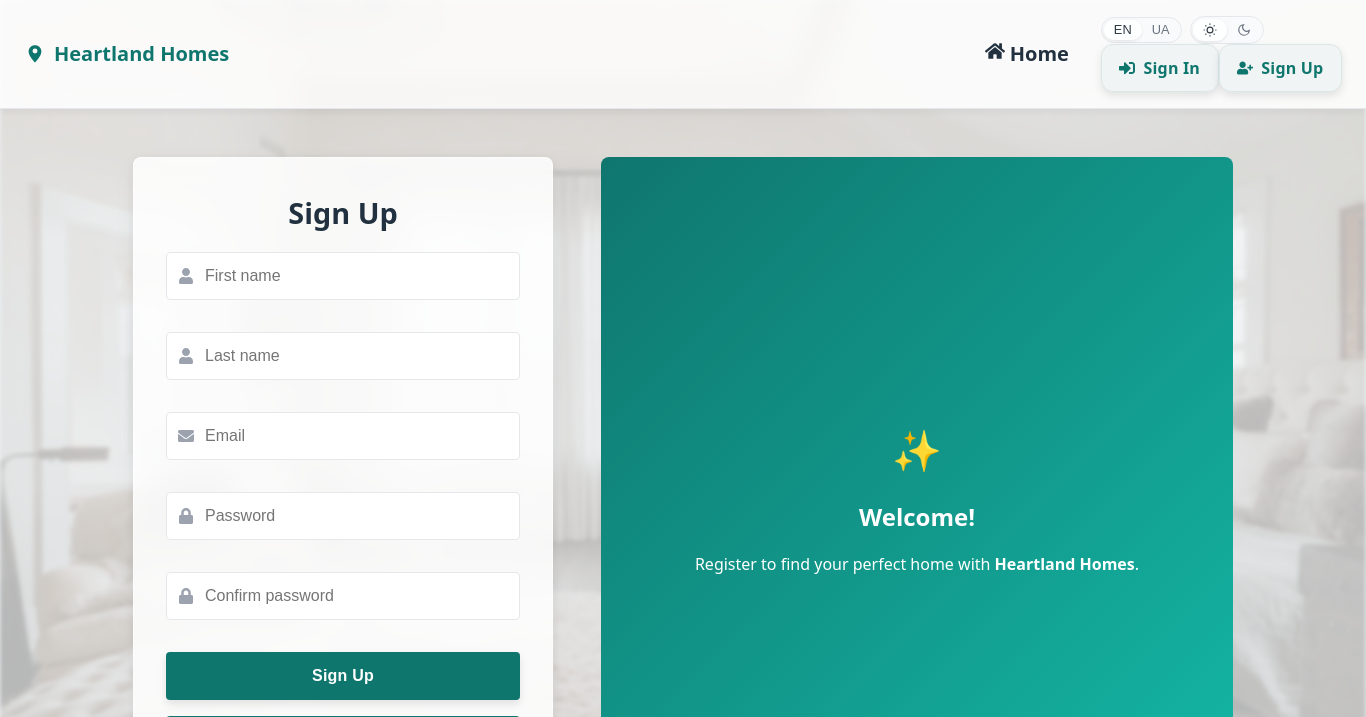
it: Форма реєстрації › Помилка якщо email уже зайнятий
In the field named "firstName": (343, 276) 166,252 -> 520,300, type "Іван"
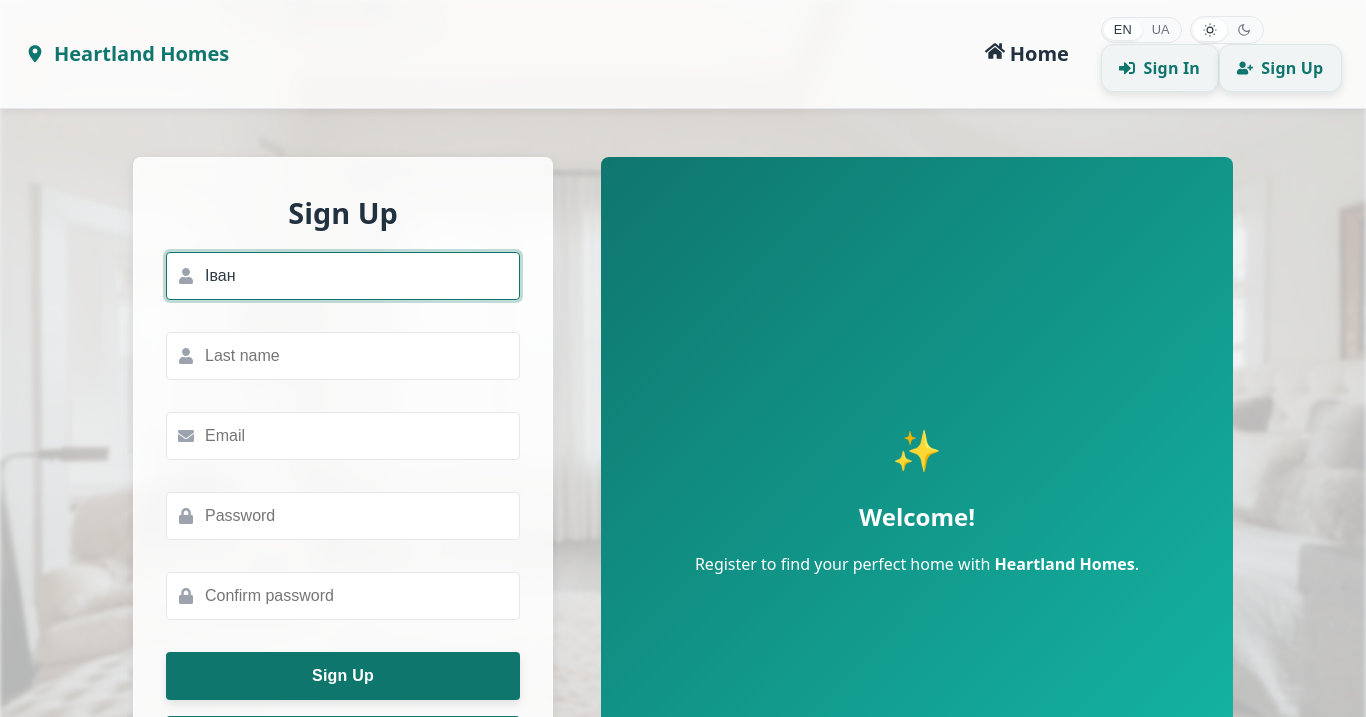
In the field named "lastName": (343, 356) 166,332 -> 520,380, type "Тестовий"
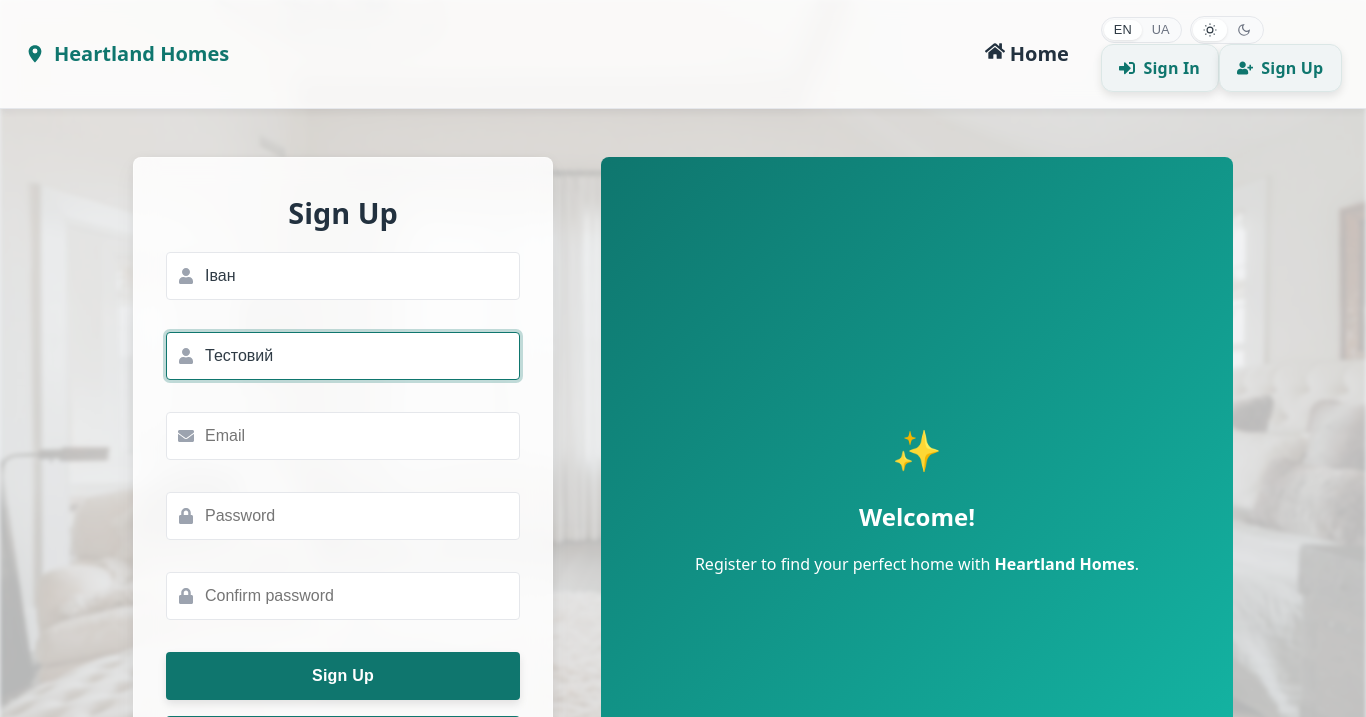
In the field named "email": (343, 436) 166,412 -> 520,460, type "admin@booking.com"
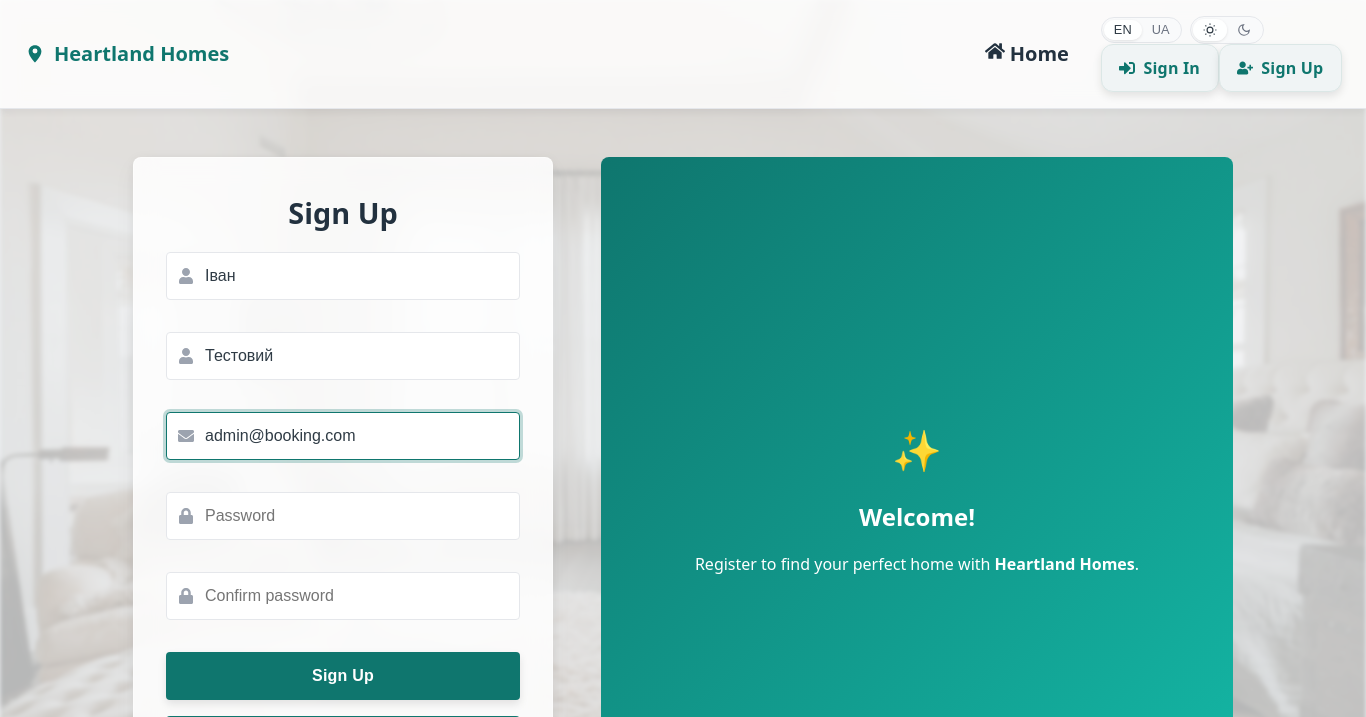
In the password field named "password": (343, 516) 166,492 -> 520,540, type "password123"
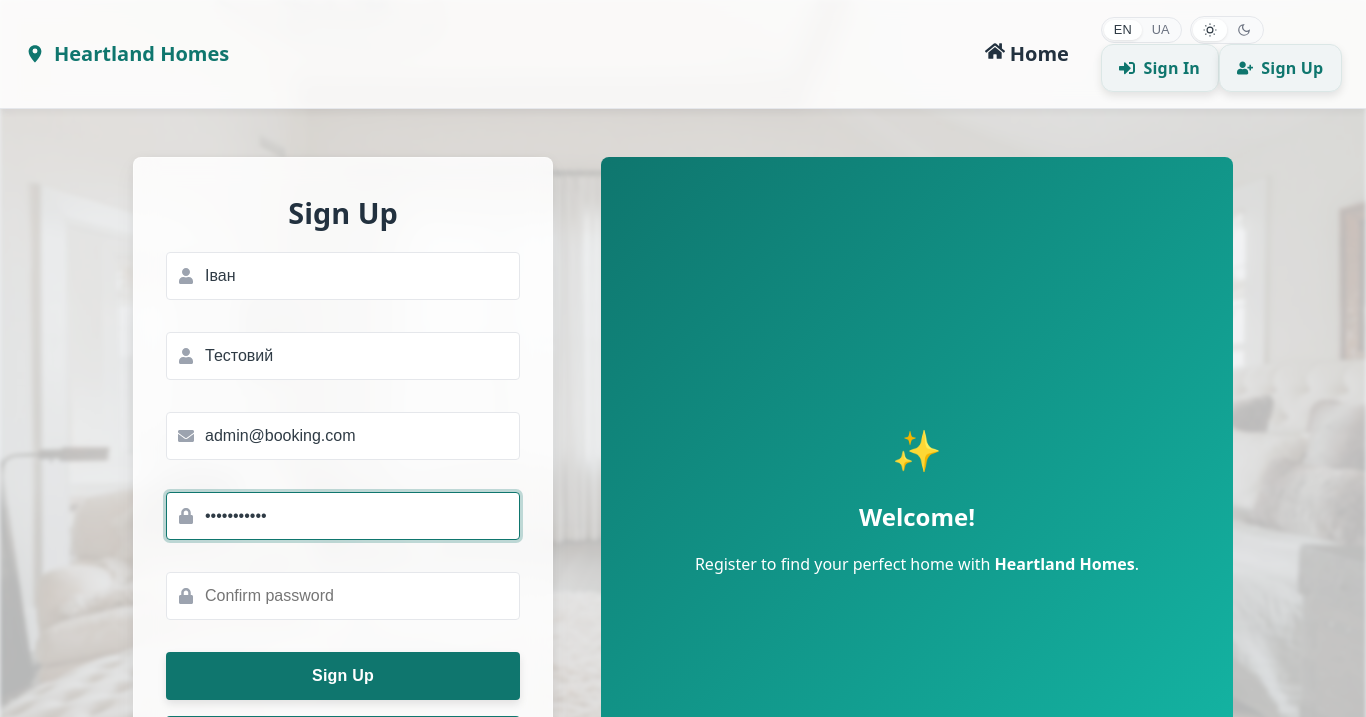
In the password field named "confirmPassword": (343, 596) 166,572 -> 520,620, type "password123"
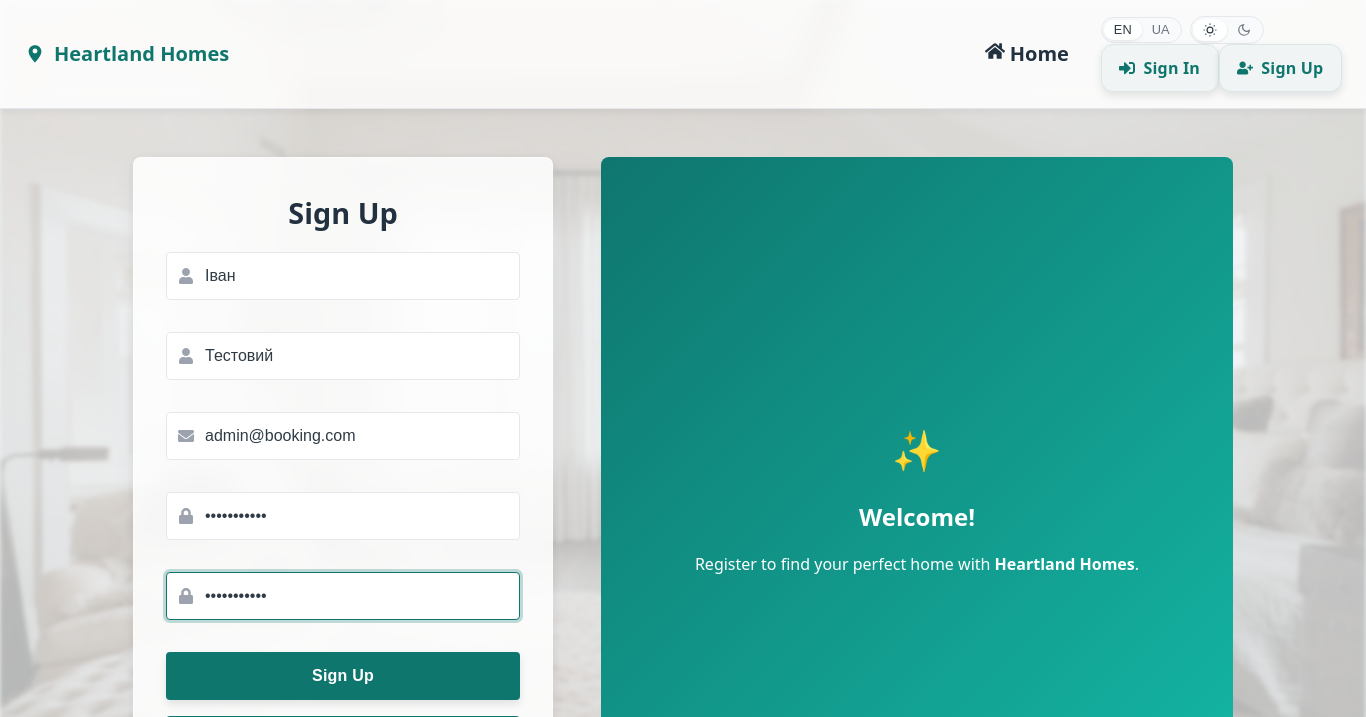
Click the submit button: (343, 676) 166,652 -> 520,700
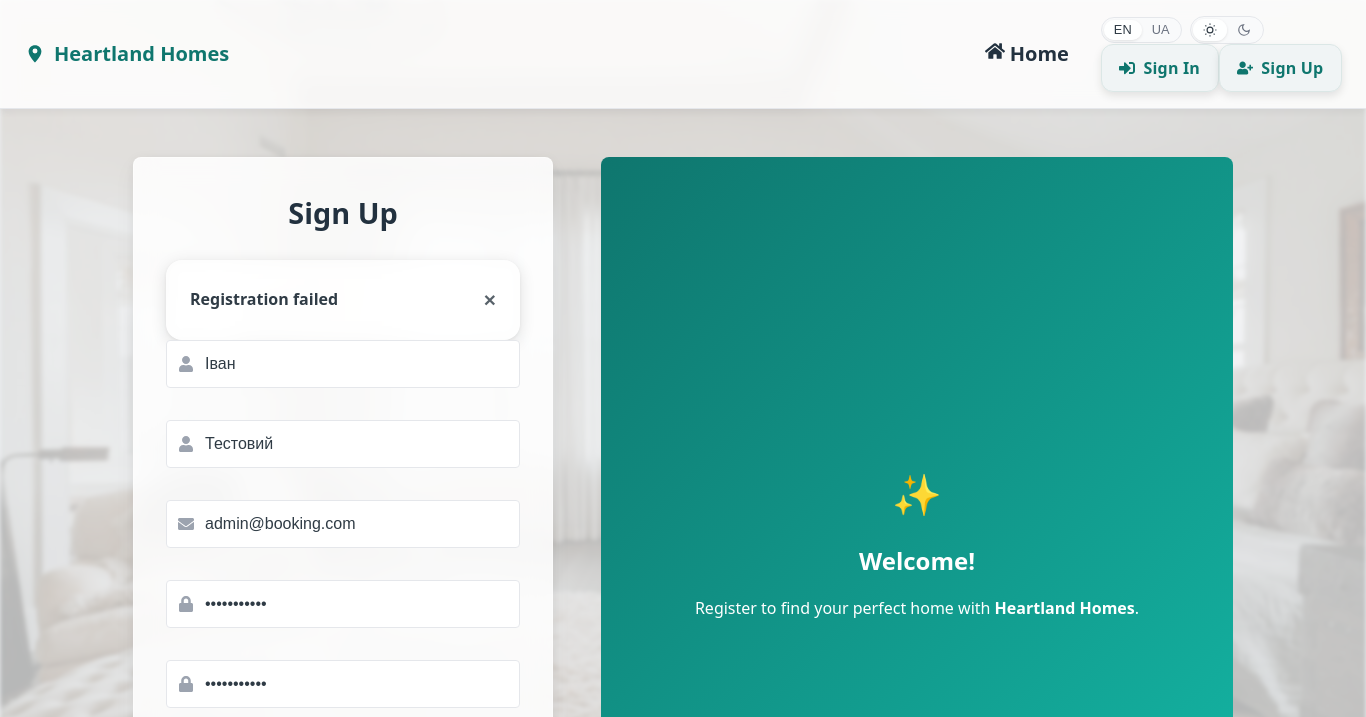
Expected: the message "Registration failed ×" is shown, 166,260 -> 520,340
